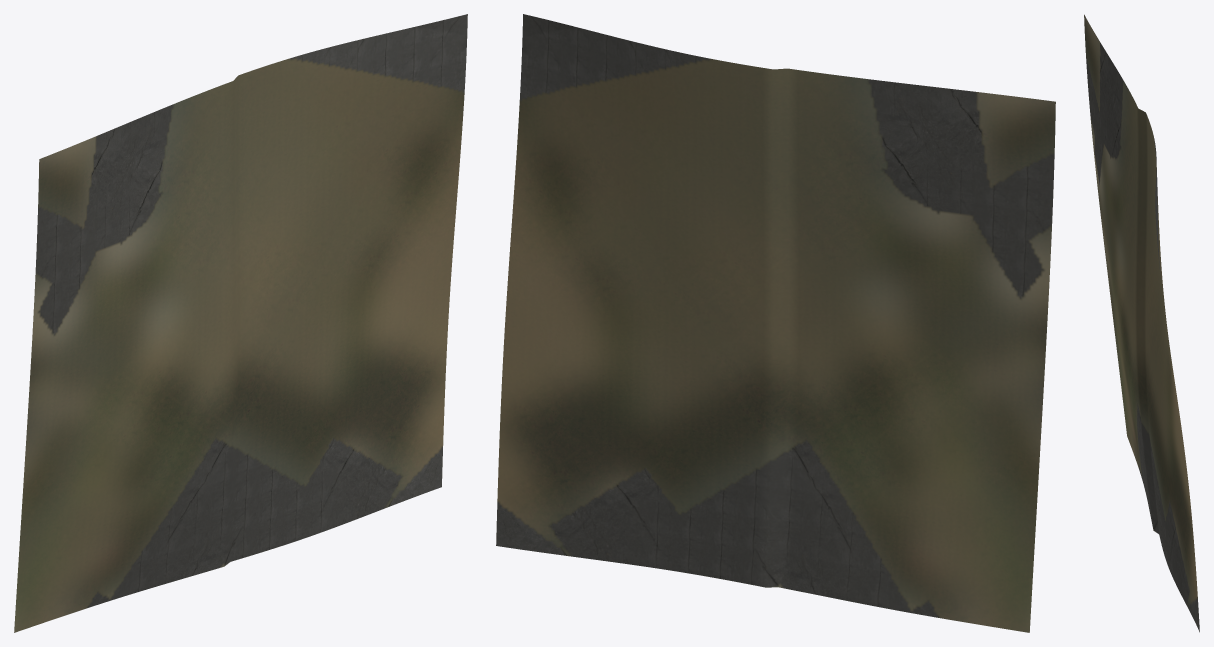
The model's file is ground_core_06_05.obj.
3 renders of one model, left to right at view 1: azimuth 30°, elevation 25°; view 2: azimuth 150°, elevation 25°; view 3: azimuth 270°, elevation 25°, orthographic. The views are drawn at different scales.
Visible parts, largest first — view 1: ground_core_06_05; view 2: ground_core_06_05; view 3: ground_core_06_05.
Part boxes in pixels (x1,y1,x2,y2): ground_core_06_05: (14, 14, 467, 632); ground_core_06_05: (496, 14, 1055, 632); ground_core_06_05: (1084, 14, 1199, 632).
Bounding box in the file's own units: 50 × 50 × 12.45.
Materials: 1 (1 with a texture image).
